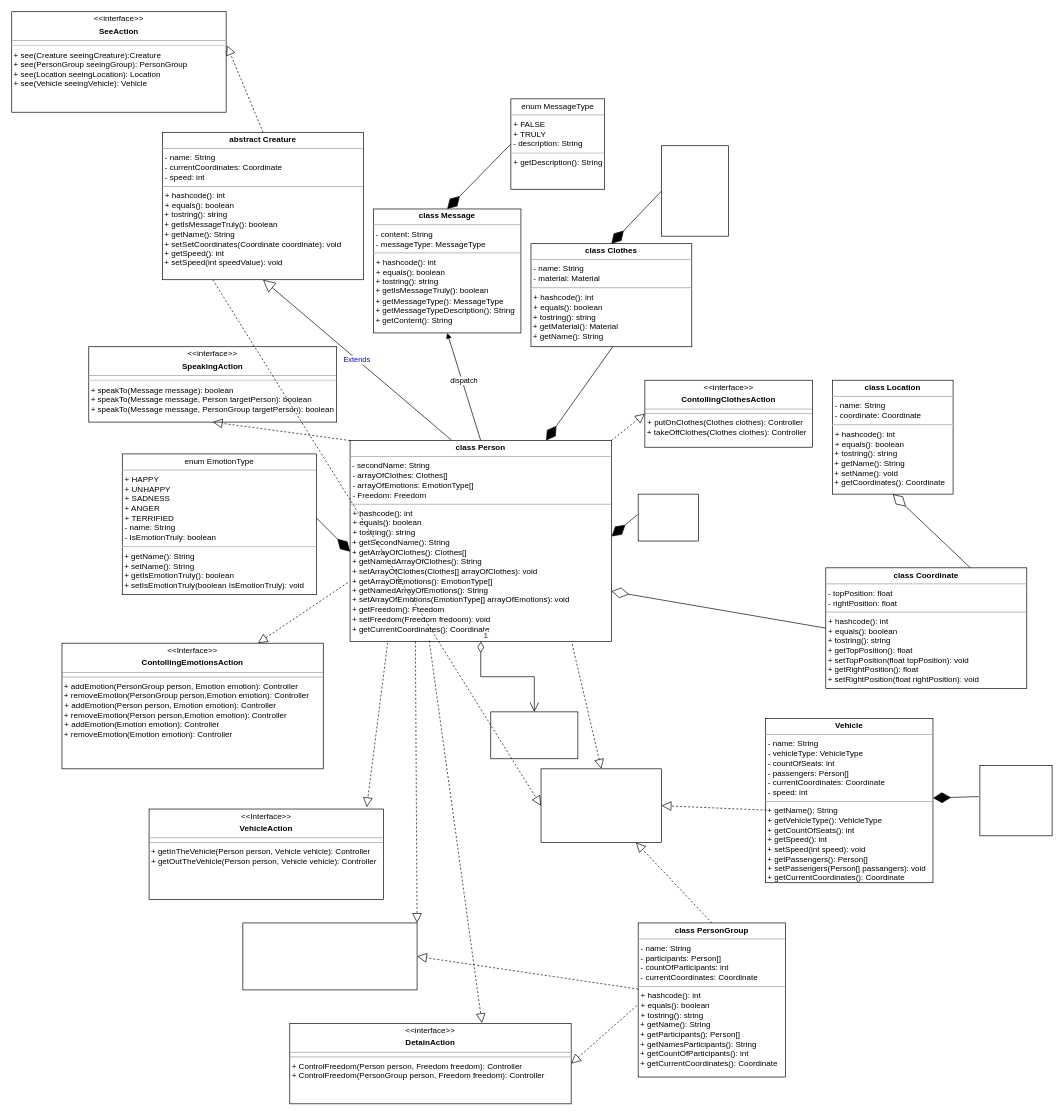
Image size: 1064x1116. Some labels were removed from this diagram. The shapes that lost their labels are listed below. From the top down, each one's box as (x1, y1, x2, y2) in pixels, then its label:
(661, 145, 729, 236): enum Material + STRAW + WOOL + DENIM + FUR + LEATHER + SILK + SYNTHETIC
(638, 493, 698, 541): enum Freedom + FREE + PRISONED
(490, 711, 578, 759): enum Controller + FAILED + SUCCESSFULLY
(540, 768, 662, 843): <<interface>> MoveAction + goTo(Location location): float
(979, 765, 1052, 836): enum VehilcleType + SPORT + VAN + TRUCK + PICKUP + SHIP
(242, 922, 417, 990): <<interface>> AbleToSleep + sleep(Location location): Controller
